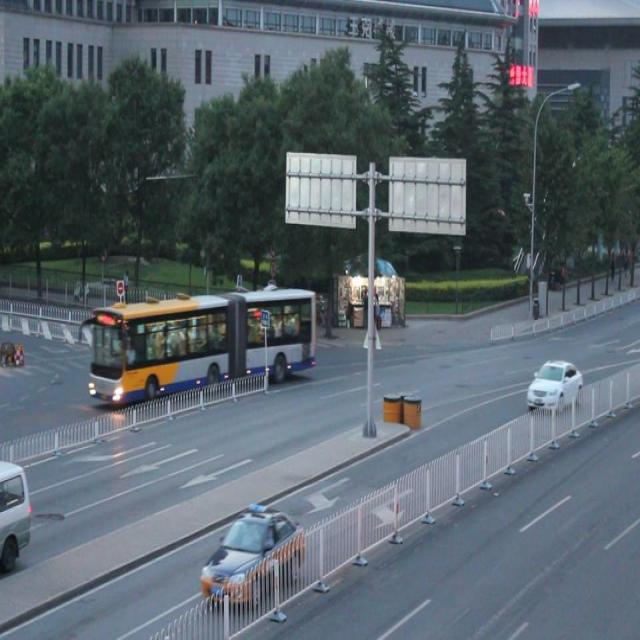car: (201, 510, 304, 598), (150, 299, 211, 354), (525, 356, 581, 412)
truck: (1, 451, 30, 569)
van: (91, 292, 318, 402)
